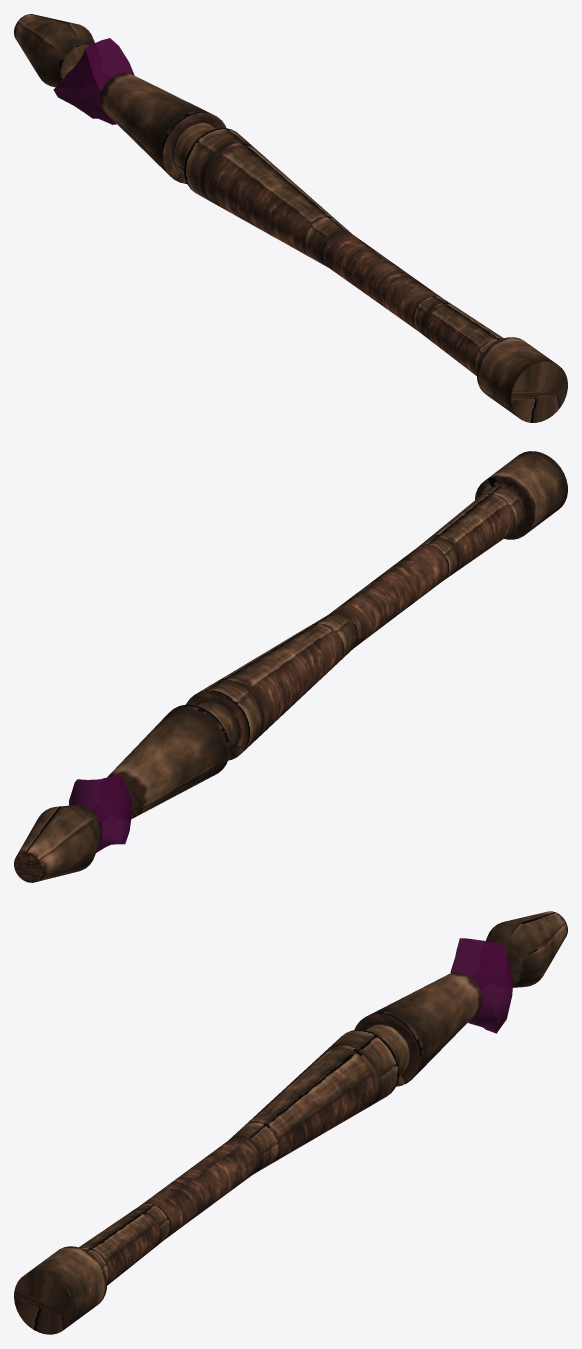
Rendered from magic.glb.
3 renders of one model, top to bottom at view 1: azimuth 30°, elevation 25°; view 2: azimuth 150°, elevation 25°; view 3: azimuth 330°, elevation 25°, orthographic. The views are drawn at different scales.
Visible parts, largest first — view 1: Circle; view 2: Circle; view 3: Circle.
Boxes of the visible parts, bbox=[...] form: Circle: bbox=[14, 14, 567, 422]; Circle: bbox=[14, 451, 567, 882]; Circle: bbox=[14, 911, 567, 1334].
Bounding box in the file's own units: 0.0786 × 0.0922 × 1.
2 materials, 1 textured.
